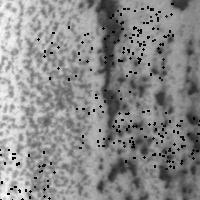pitted_surface: (1, 1, 93, 198), (114, 36, 199, 161), (123, 110, 182, 168), (112, 19, 169, 79), (96, 1, 123, 127), (76, 89, 132, 147), (102, 8, 162, 62), (37, 26, 91, 78), (0, 149, 53, 200), (153, 104, 200, 161), (117, 0, 172, 44)
